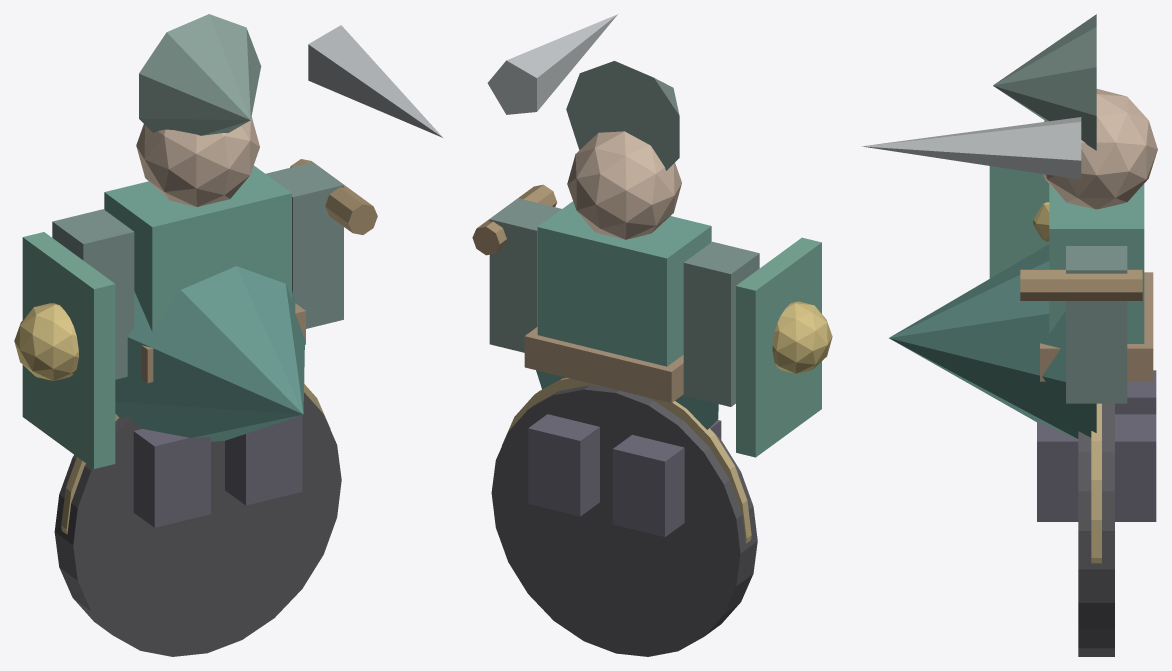
File: guardiao_jade_demo.glb
3 views of the same model, side by side, from view 1: azimuth 30°, elevation 25°; view 2: azimuth 150°, elevation 25°; view 3: azimuth 270°, elevation 25° (orthographic). The views are drawn at different scales.
Visible parts, largest first — view 1: base_escura, corpo, torso, escudo, capacete, braco_dir, cabeca, botas_esq, braco_esq, botas_dir, lamina_espada, simbolo_escudo (+3 smaller); view 2: base_escura, torso, escudo, cabeca, braco_esq, capacete, botas_esq, braco_dir, botas_dir, cinto, lamina_espada, simbolo_escudo (+3 smaller); view 3: corpo, botas_dir, braco_dir, base_escura, cabeca, lamina_espada, capacete, torso, escudo, cabo_espada, cinto, aro_base (+2 smaller).
Part boxes in pixels (<box>): base_escura: <box>54,392,341,656</box>; corpo: <box>115,266,304,441</box>; torso: <box>104,165,291,331</box>; escudo: <box>22,232,115,468</box>; capacete: <box>139,14,261,135</box>; braco_dir: <box>265,162,343,328</box>; cabeca: <box>136,117,259,206</box>; botas_esq: <box>133,429,210,527</box>; braco_esq: <box>52,209,134,379</box>; botas_dir: <box>225,415,302,505</box>; lamina_espada: <box>308,25,442,137</box>; simbolo_escudo: <box>14,303,78,380</box>; base_escura: <box>491,385,757,656</box>; torso: <box>537,201,711,366</box>; escudo: <box>736,237,821,457</box>; cabeca: <box>567,131,681,239</box>; braco_esq: <box>683,241,759,406</box>; capacete: <box>566,61,679,170</box>; botas_esq: <box>612,420,721,536</box>; braco_dir: <box>489,198,561,352</box>; botas_dir: <box>528,414,599,516</box>; cinto: <box>524,327,683,403</box>; lamina_espada: <box>487,14,617,114</box>; simbolo_escudo: <box>772,301,832,373</box>; corpo: <box>889,244,1096,439</box>; botas_dir: <box>1037,414,1156,521</box>; braco_dir: <box>1066,246,1127,403</box>; base_escura: <box>1078,403,1114,656</box>; cabeca: <box>1043,89,1157,209</box>; lamina_espada: <box>861,117,1081,179</box>; capacete: <box>993,14,1096,150</box>; torso: <box>1049,184,1144,343</box>; escudo: <box>989,166,1049,278</box>; cabo_espada: <box>1020,269,1142,300</box>; cinto: <box>1040,272,1153,381</box>; aro_base: <box>1091,403,1101,563</box>.
Size of the model in its own units: 1.32 by 2.24 by 0.97.
